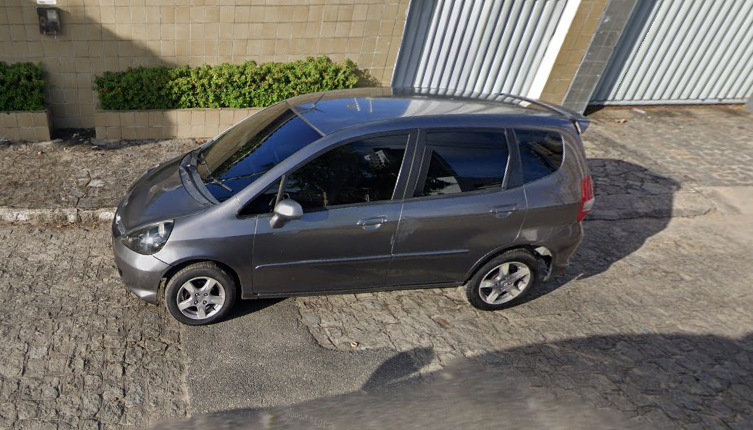car: (107, 81, 597, 330)
